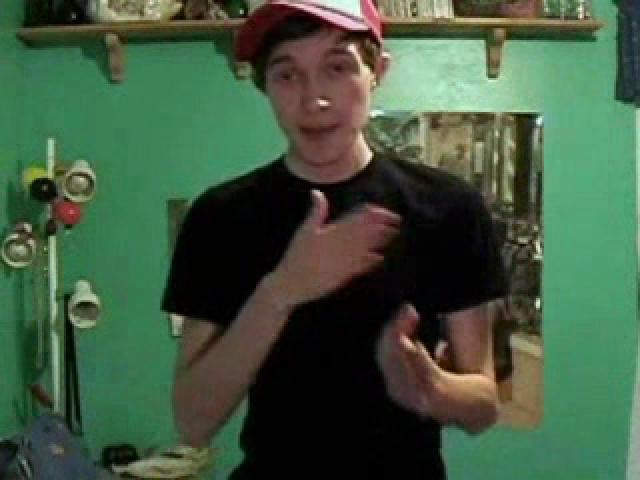F: (163, 3, 507, 477)
